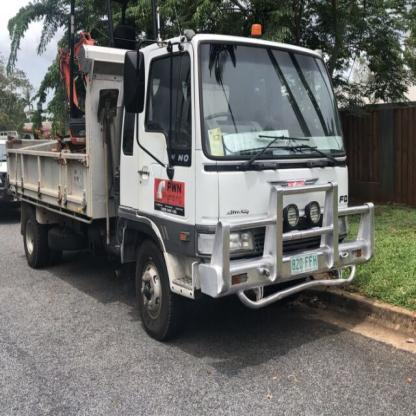dump_truck: (8, 29, 376, 338)
